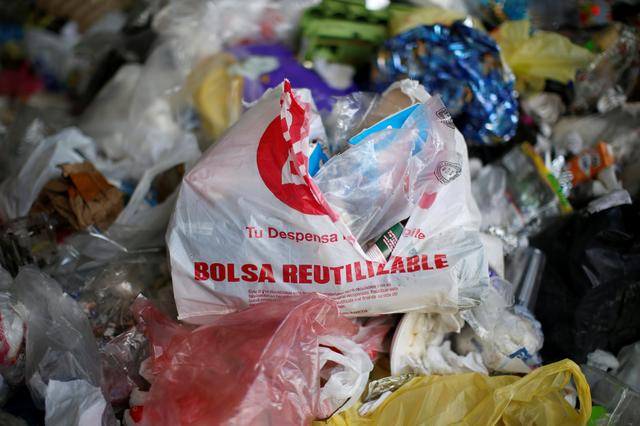plastic_bagwdw: (136, 80, 505, 343), (101, 291, 395, 426), (314, 308, 634, 426), (249, 317, 379, 426)
